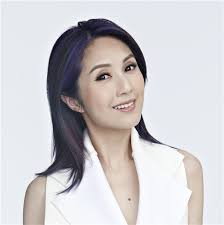asian_female: (55, 18, 162, 151)
